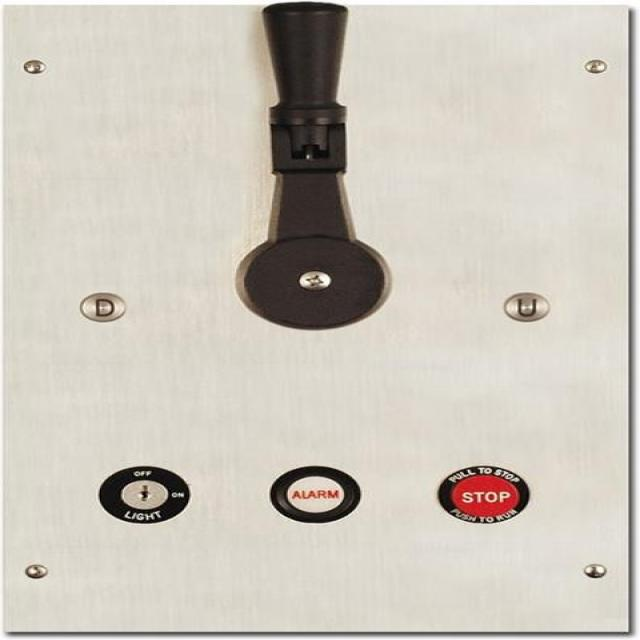D: (72, 287, 129, 324)
U: (496, 288, 553, 324)
keyhole: (89, 460, 192, 526)
text_alarm bell: (261, 460, 364, 525)
text_stop: (427, 460, 529, 526)
